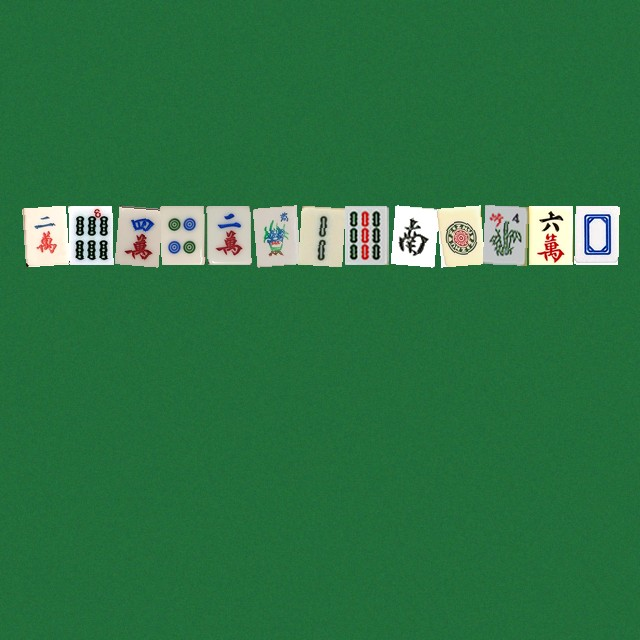tile: (22, 205, 66, 264), (68, 205, 112, 264), (114, 205, 158, 264), (160, 205, 204, 264), (206, 205, 250, 264), (252, 205, 296, 264), (298, 205, 342, 264), (344, 205, 388, 264), (390, 205, 434, 264), (436, 205, 480, 264), (482, 205, 526, 264), (528, 205, 572, 264), (574, 205, 618, 264)
